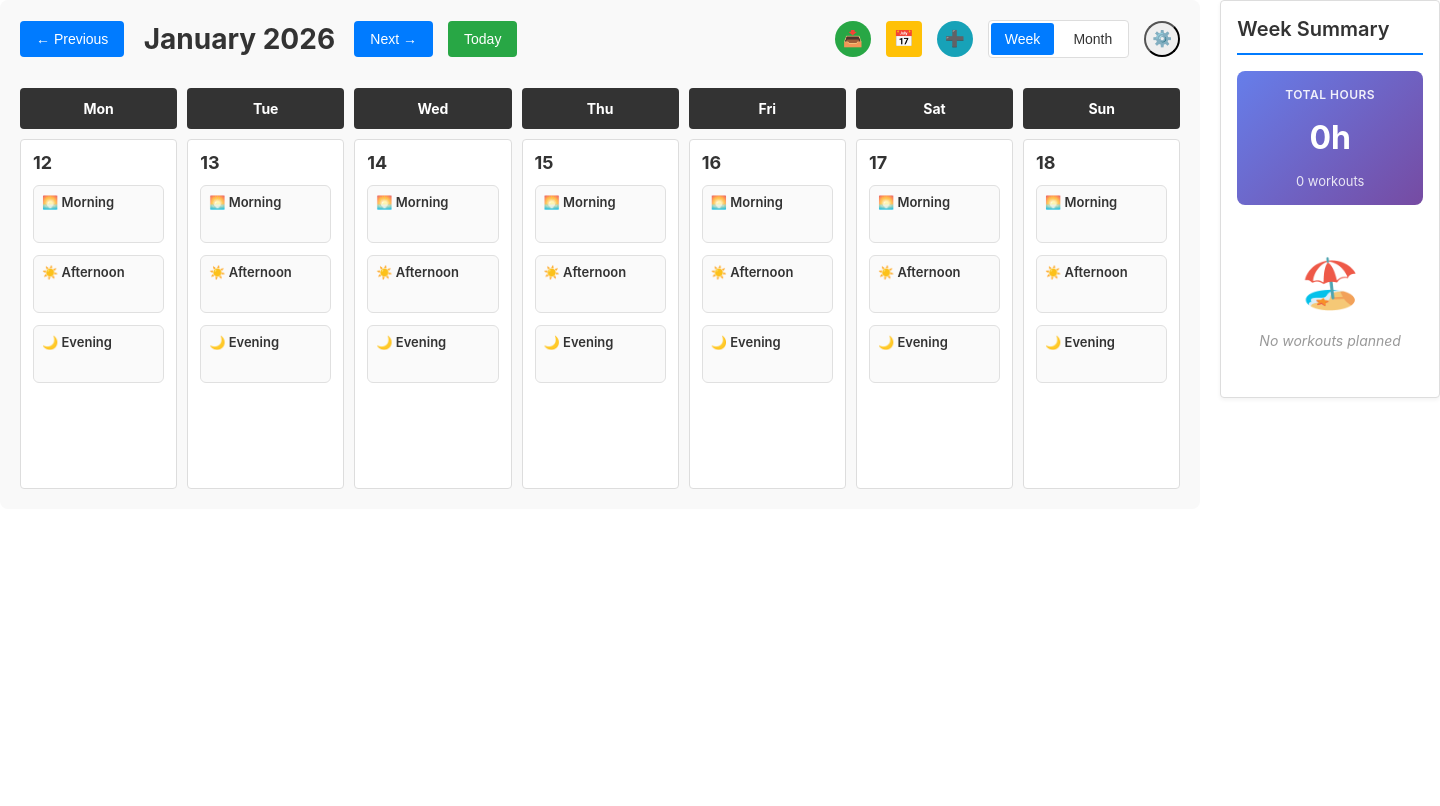
Scenario: Calendar Component › Adjacent month dates in month view › should show workouts on adjacent month dates if they exist
# Switch to month view
Click the button "Month". click: coordinates (1093, 39)
box: [1059,23,1126,55]
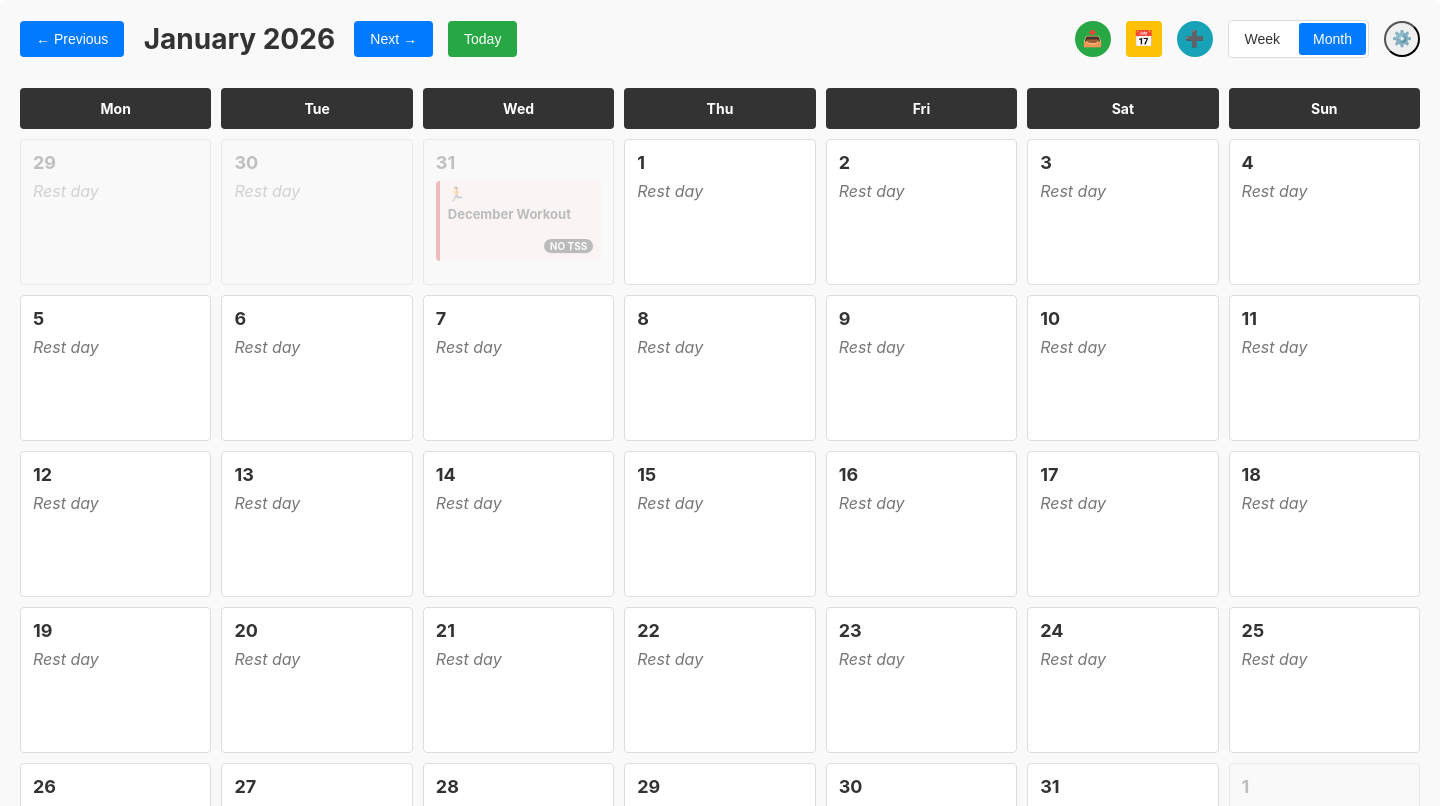
Check: the text "December Workout" is shown, box [448,206,571,222]
